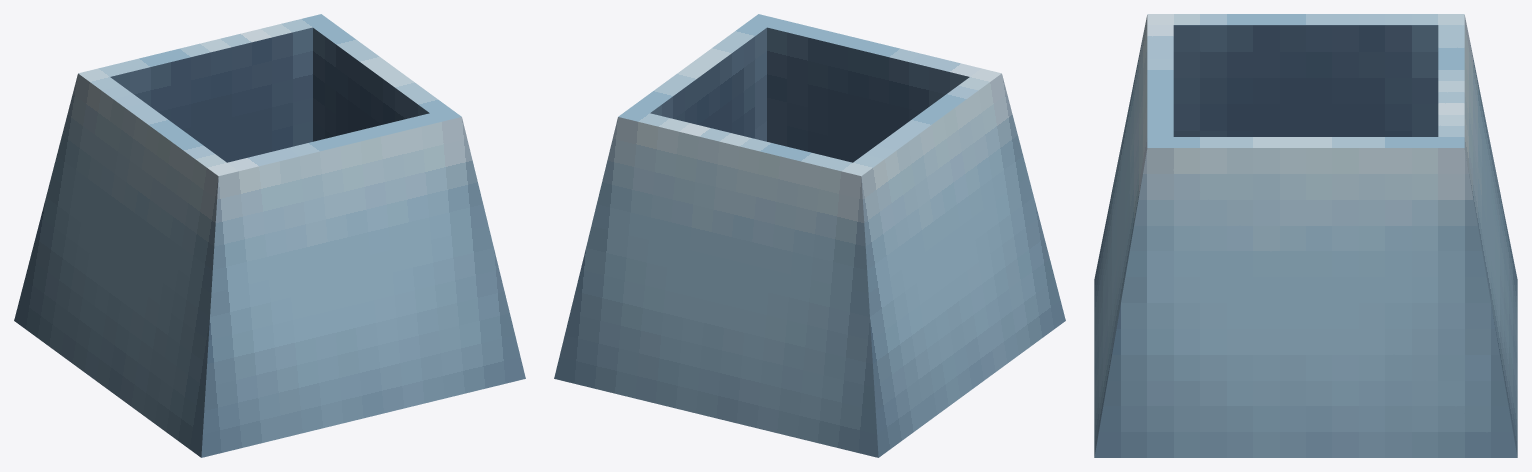
The model's file is reservior.obj.
3 renders of one model, left to right at view 1: azimuth 30°, elevation 25°; view 2: azimuth 150°, elevation 25°; view 3: azimuth 270°, elevation 25°, orthographic. The views are drawn at different scales.
Visible parts, largest first — view 1: Reservior; view 2: Reservior; view 3: Reservior.
Boxes of the visible parts, x1=… form: Reservior: x1=14, y1=14, x2=525, y2=457; Reservior: x1=554, y1=14, x2=1065, y2=457; Reservior: x1=1094, y1=14, x2=1517, y2=457.
Size of the model in its own units: 0.9971 by 0.7479 by 0.9971.
